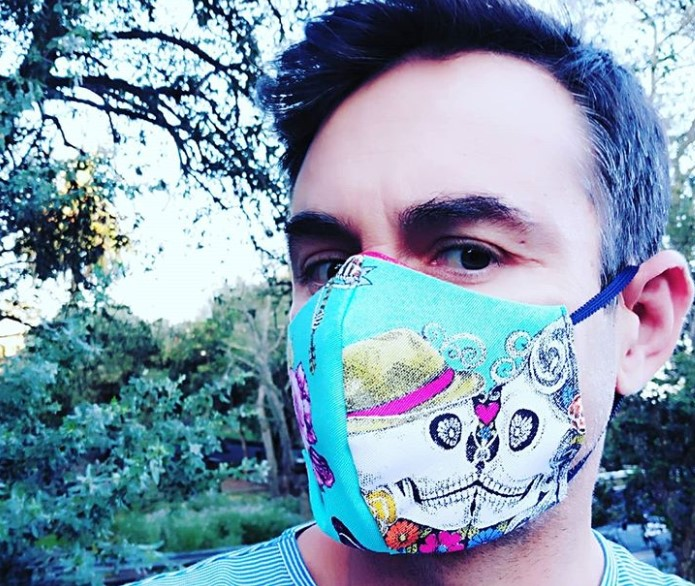face_with_mask: (256, 10, 683, 568)
